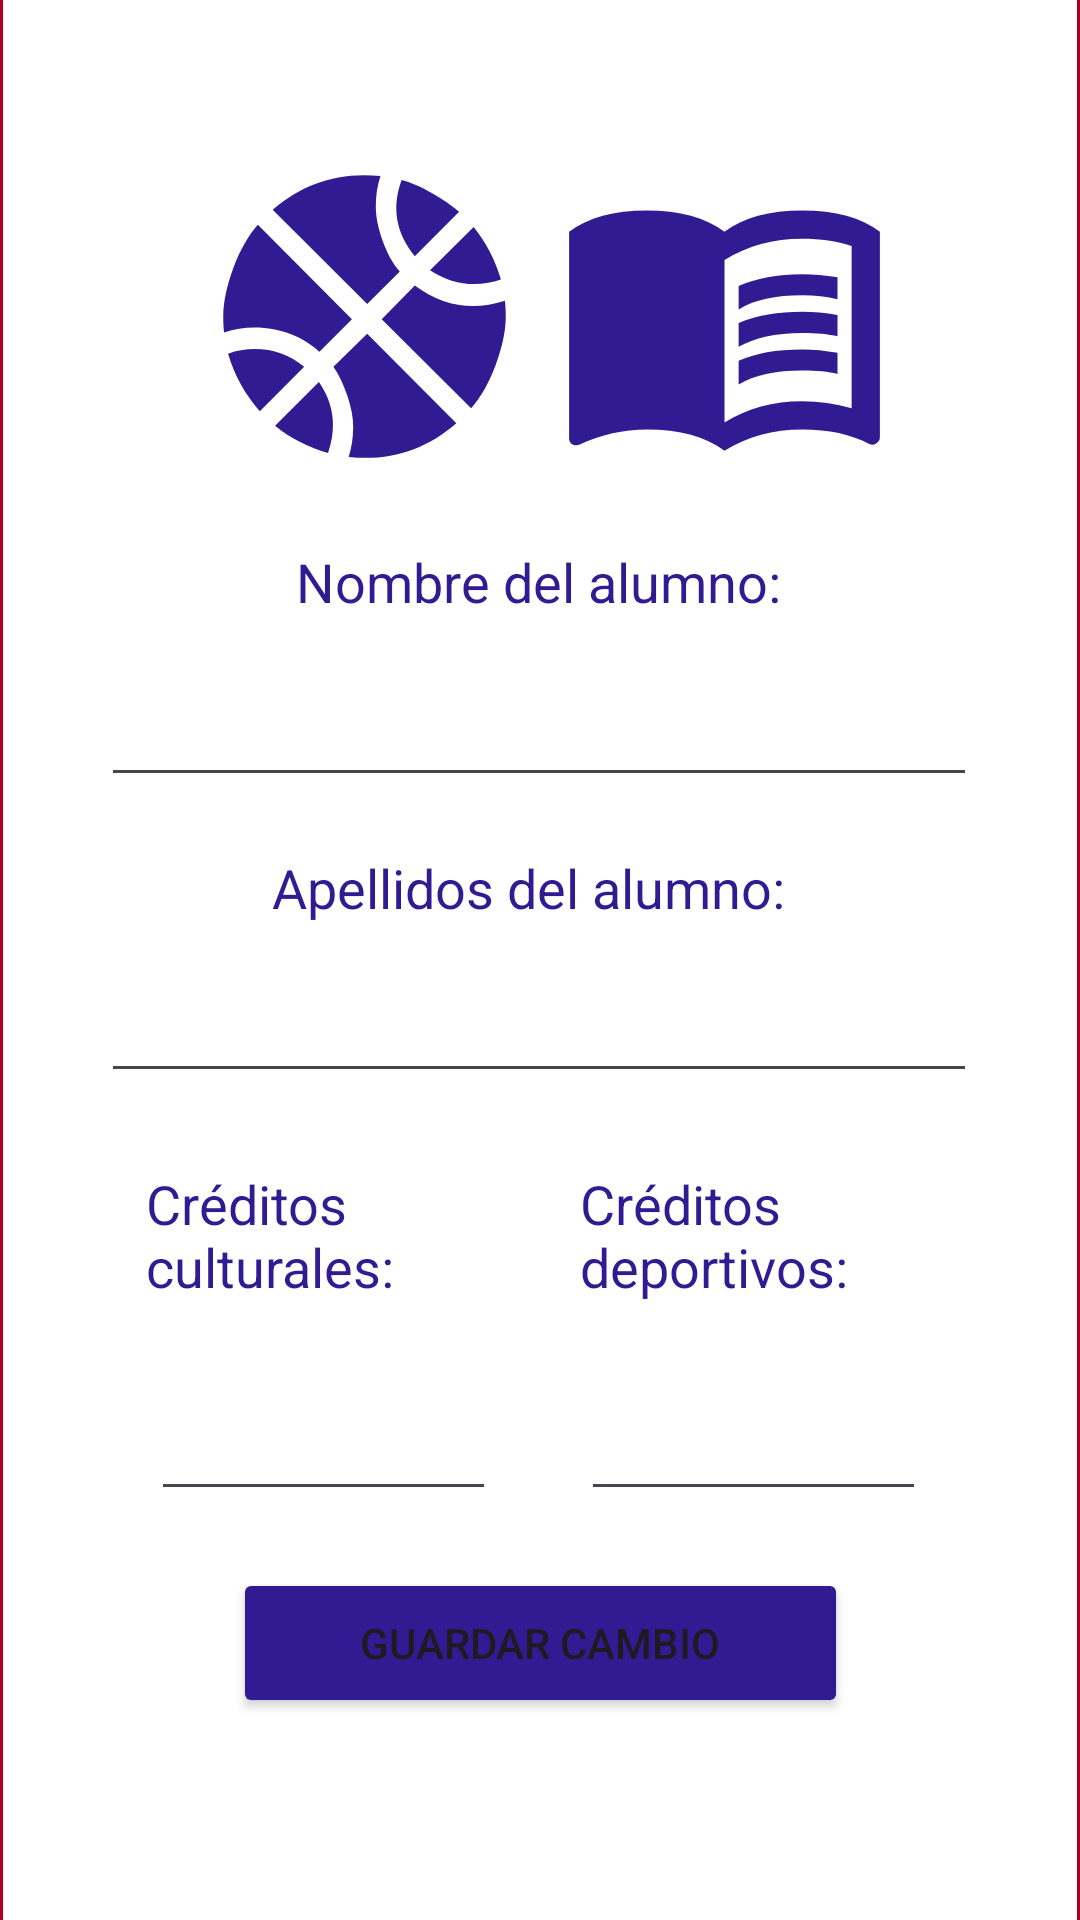

Icon click points for this 1080px x 1920px phone screenshot, format [x,y]:
basketball: [364,316]
book open variant: [724,330]
